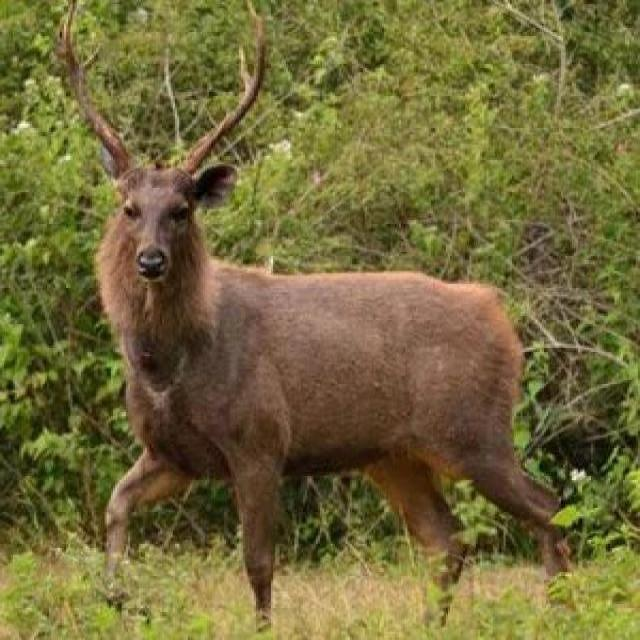deer: (32, 114, 640, 590)
